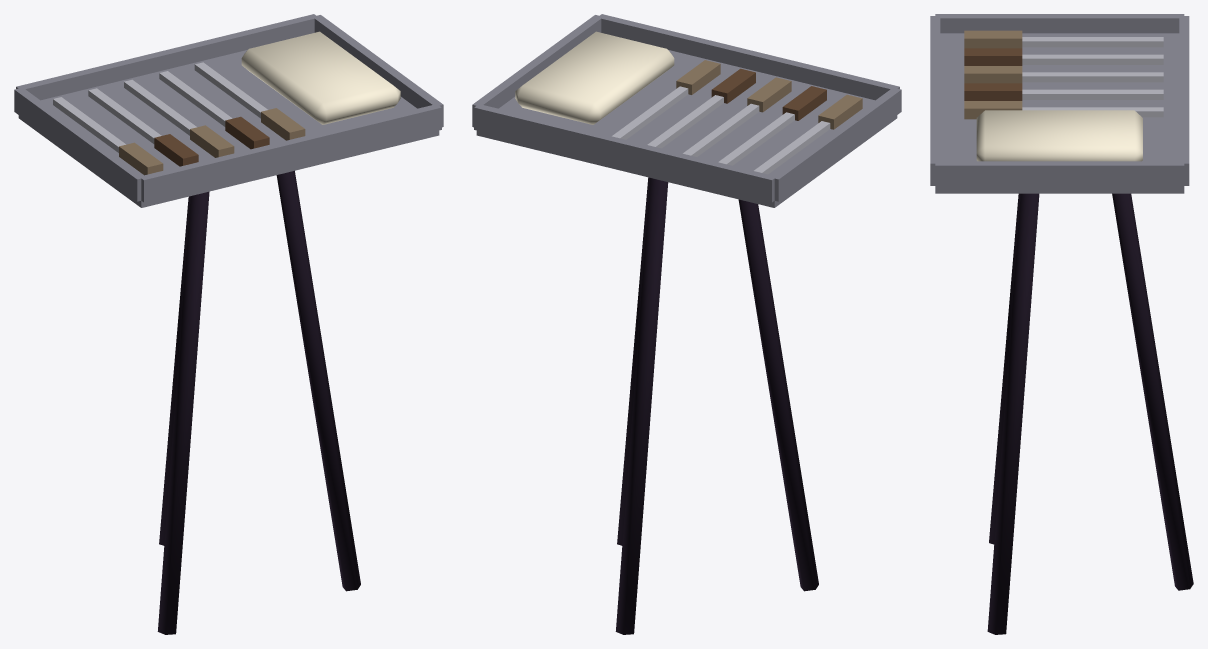
Rendered from instrument_tray.glb.
3 renders of one model, left to right at view 1: azimuth 30°, elevation 25°; view 2: azimuth 150°, elevation 25°; view 3: azimuth 270°, elevation 25°, orthographic.
Visible parts, largest first — view 1: instrument_tray; view 2: instrument_tray; view 3: instrument_tray.
Boxes of the visible parts, left/top/right/bottom form: instrument_tray: left=14, top=14, right=443, bottom=634; instrument_tray: left=472, top=14, right=901, bottom=634; instrument_tray: left=930, top=14, right=1193, bottom=634.
Size of the model in its own units: 0.432 by 0.6716 by 0.3173.
